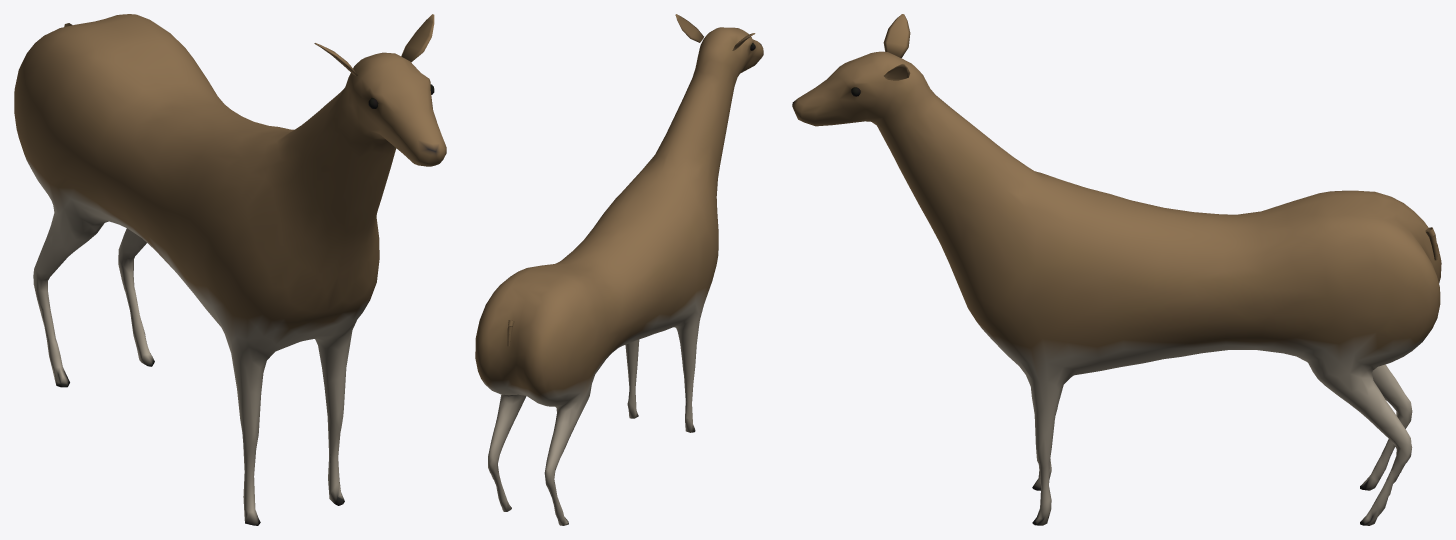
Rendered from reh.glb.
3 views of the same model, side by side, from view 1: azimuth 30°, elevation 25°; view 2: azimuth 150°, elevation 25°; view 3: azimuth 270°, elevation 25° (orthographic). The views are drawn at different scales.
Parts seen in each view (by area): view 1: lack; view 2: lack; view 3: lack.
Boxes of the visible parts, x1=… form: lack: x1=14, y1=14, x2=446, y2=525; lack: x1=475, y1=14, x2=763, y2=525; lack: x1=792, y1=14, x2=1441, y2=525.
Size of the model in its own units: 0.3558 by 1.25 by 1.57.
